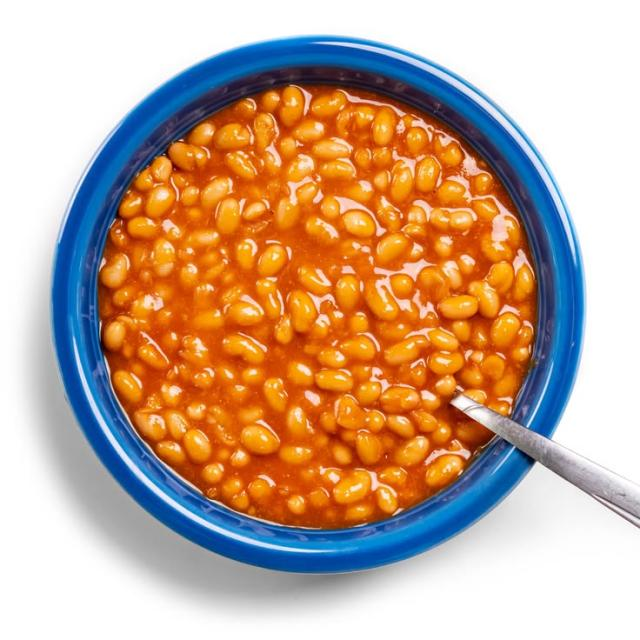beans: (99, 87, 535, 526)
